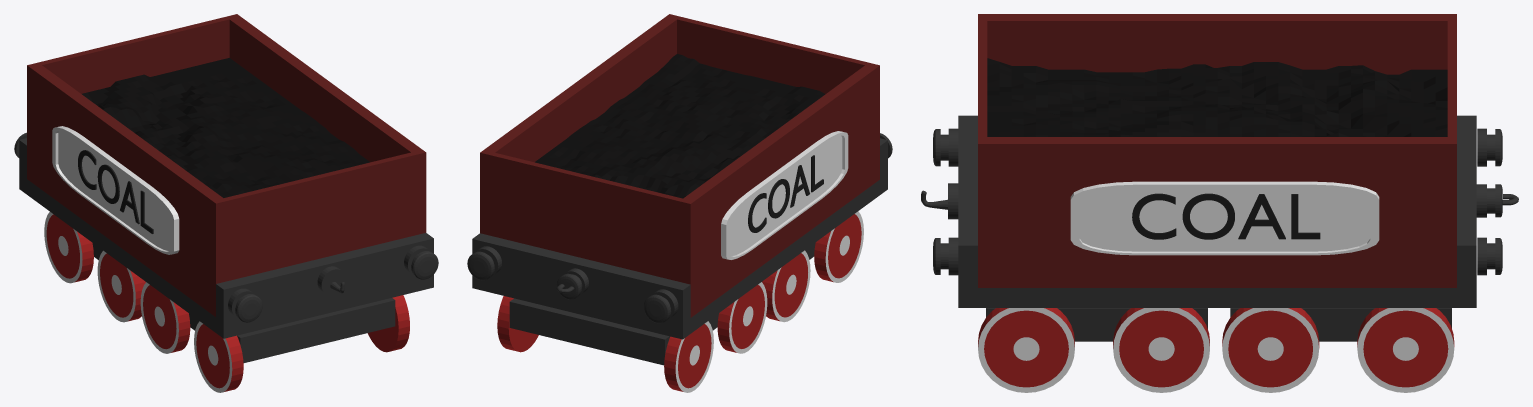
The model's file is Coal wagon.fbx.
The picture shows the model from 3 angles, left to right: view 1: azimuth 30°, elevation 25°; view 2: azimuth 150°, elevation 25°; view 3: azimuth 270°, elevation 25°; orthographic projection. The views are drawn at different scales.
Visible parts, largest first — view 1: Coal wagon; view 2: Coal wagon; view 3: Coal wagon.
Boxes of the visible parts, x1=… form: Coal wagon: x1=14, y1=14, x2=438, y2=392; Coal wagon: x1=467, y1=14, x2=892, y2=392; Coal wagon: x1=921, y1=14, x2=1518, y2=392.
Size of the model in its own units: 372 by 330 by 690.
